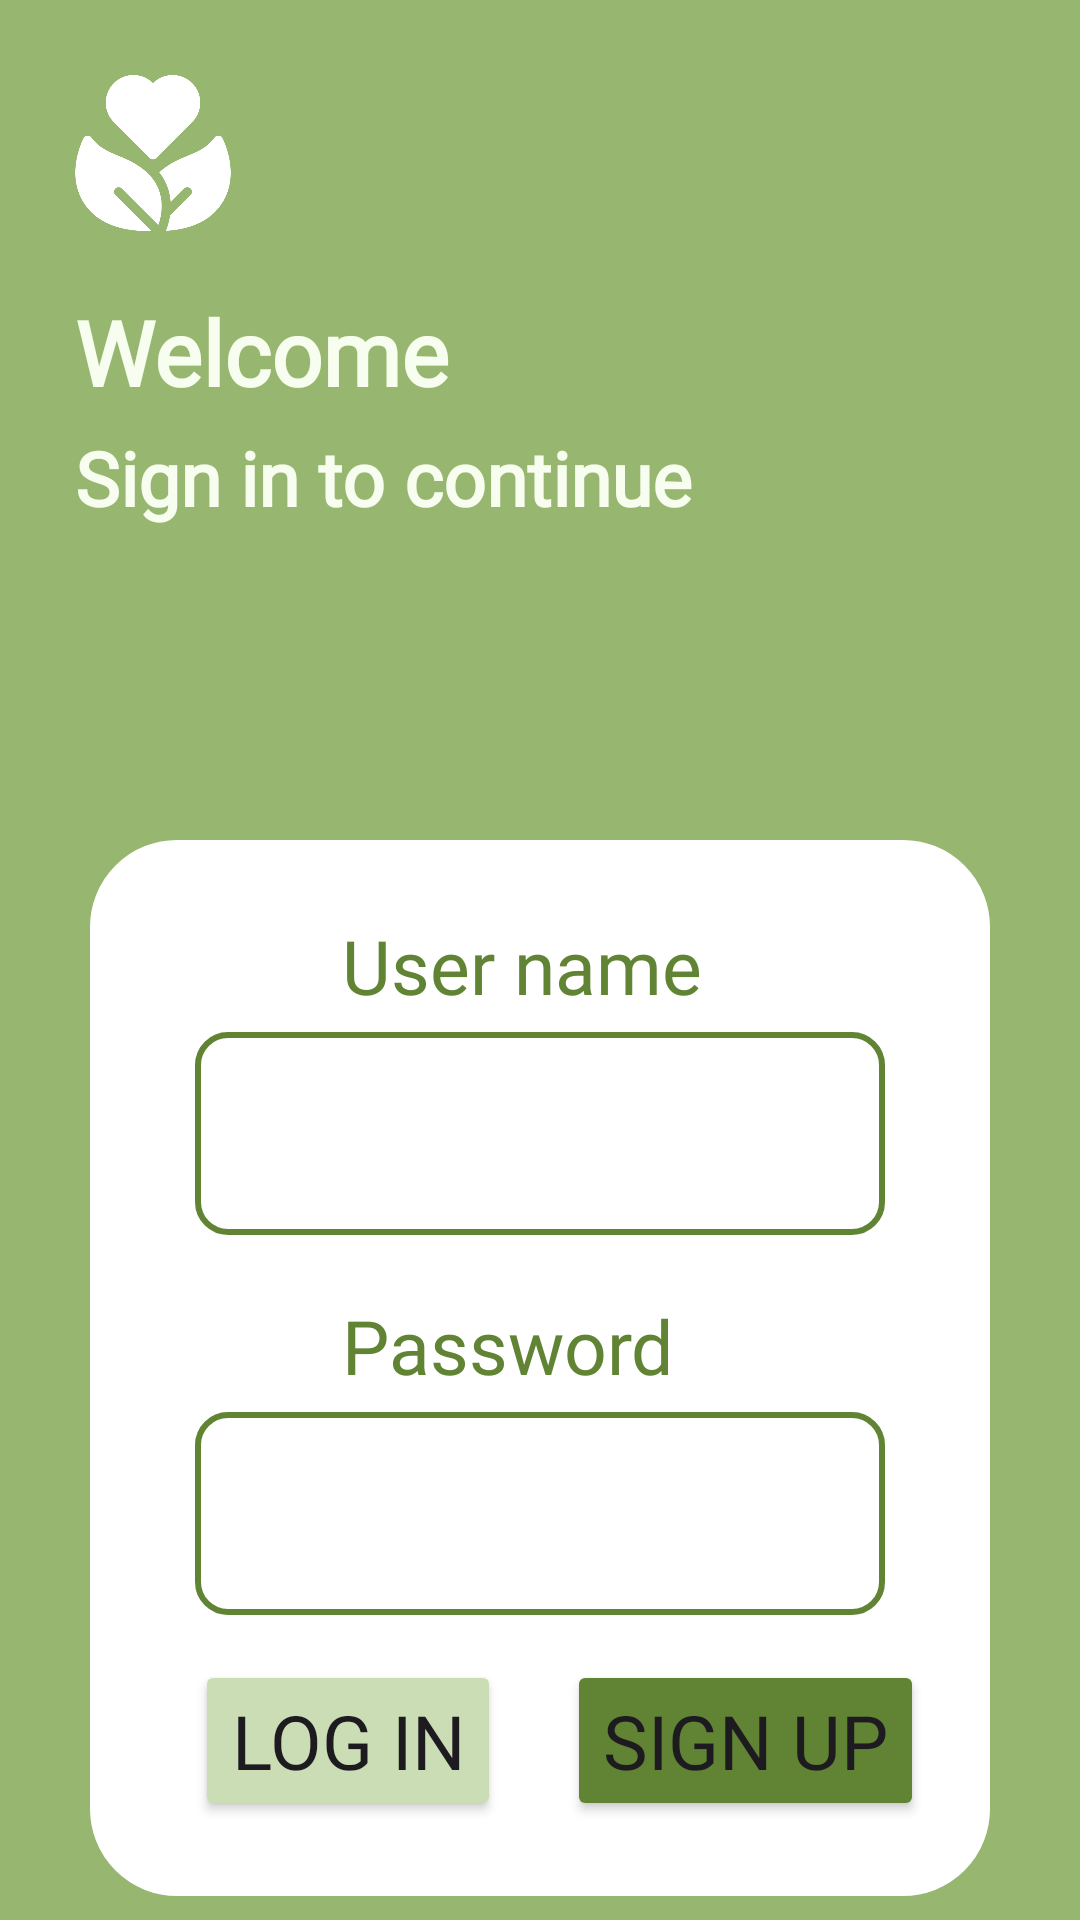

Named icons in this screenshot (1080x1920) and their centers, (x=x, y=y):
organic: (x=153, y=153)
